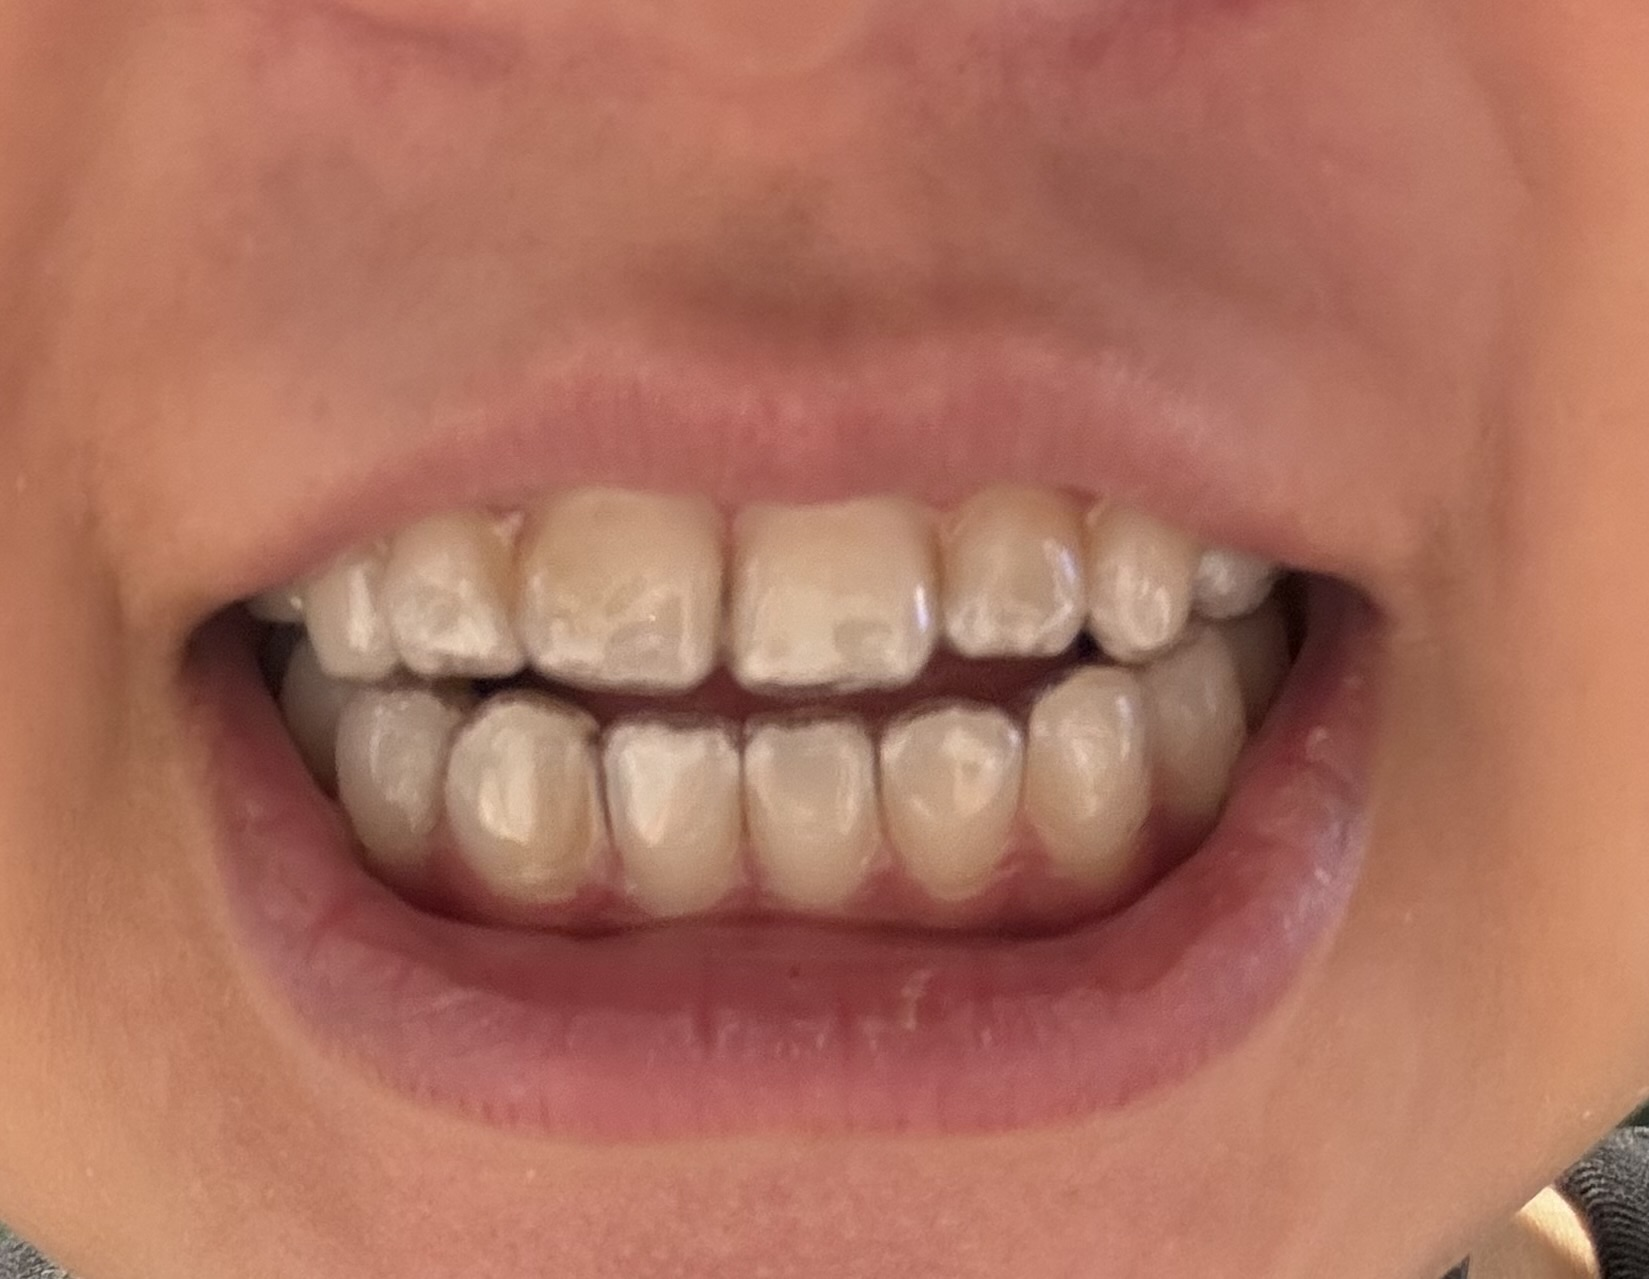teeth: (513, 502, 717, 674), (732, 506, 938, 676), (456, 709, 593, 902), (1028, 669, 1154, 856), (620, 736, 736, 912), (897, 720, 1009, 895), (384, 512, 506, 670), (340, 692, 447, 870), (952, 492, 1073, 644), (764, 730, 866, 899), (1148, 634, 1243, 811), (1090, 535, 1190, 650), (301, 555, 392, 672), (286, 650, 345, 773), (1231, 610, 1286, 721), (1197, 557, 1268, 614)
